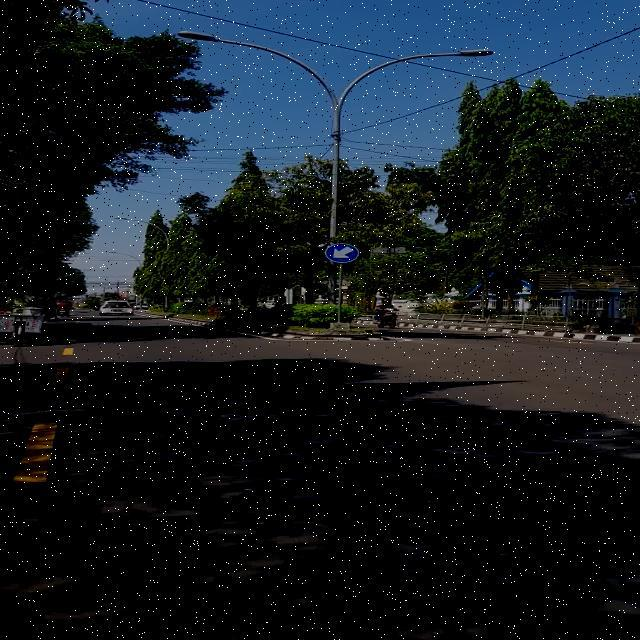Lajur Kiri: (324, 243, 360, 263)
